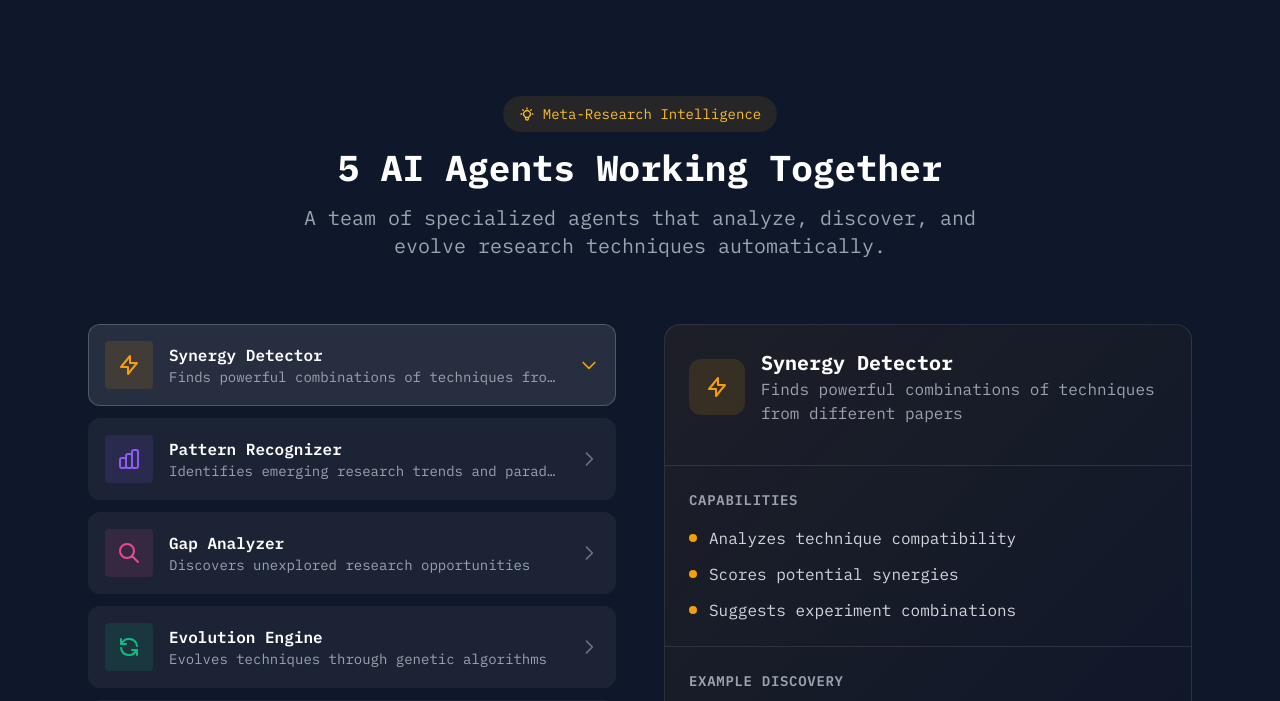
Scenario: MetaAgentFeature › Agent Selection › should switch to Evolution Engine when clicked
What coordinates should you click on to do the following:
click the button "Evolution Engine"
I would click on:
 (352, 647)
Its box is [88,606,616,688].
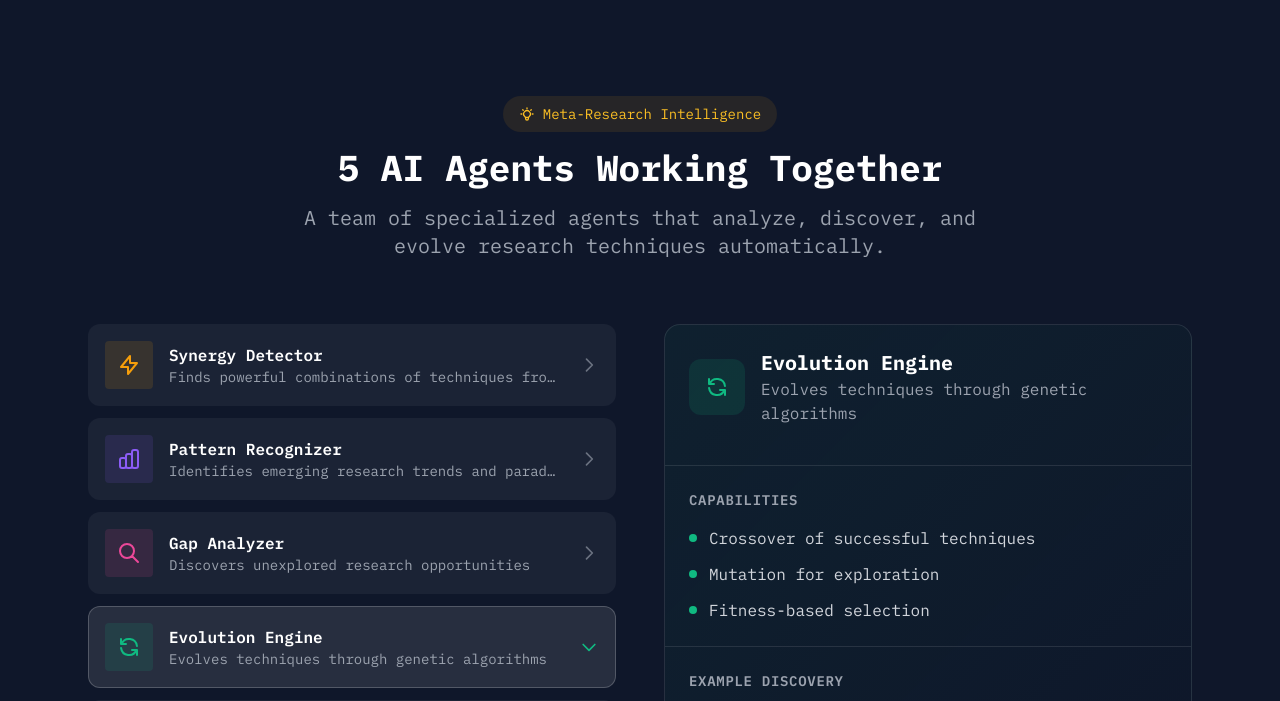
Now the text "Crossover of successful techniques" is shown, box [709,526,1035,550]
